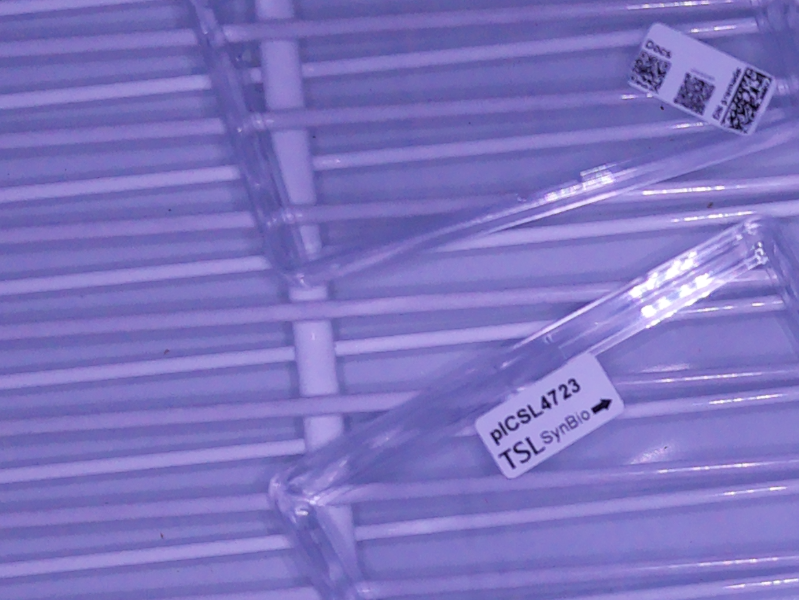plate: (267, 215, 799, 600), (193, 1, 799, 290)
